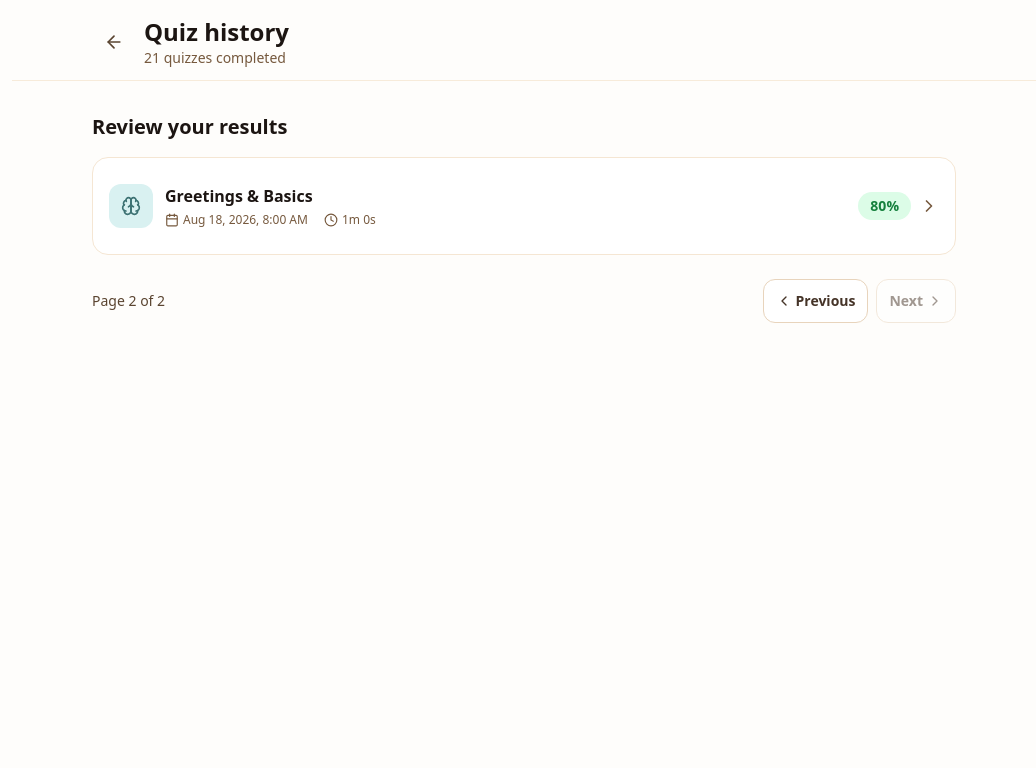
Test: progress pages › restores quiz-history pagination and carries the exact list URL into review
Click the button "Previous" at (815, 301), box [762, 279, 868, 323]
(page scrolled)
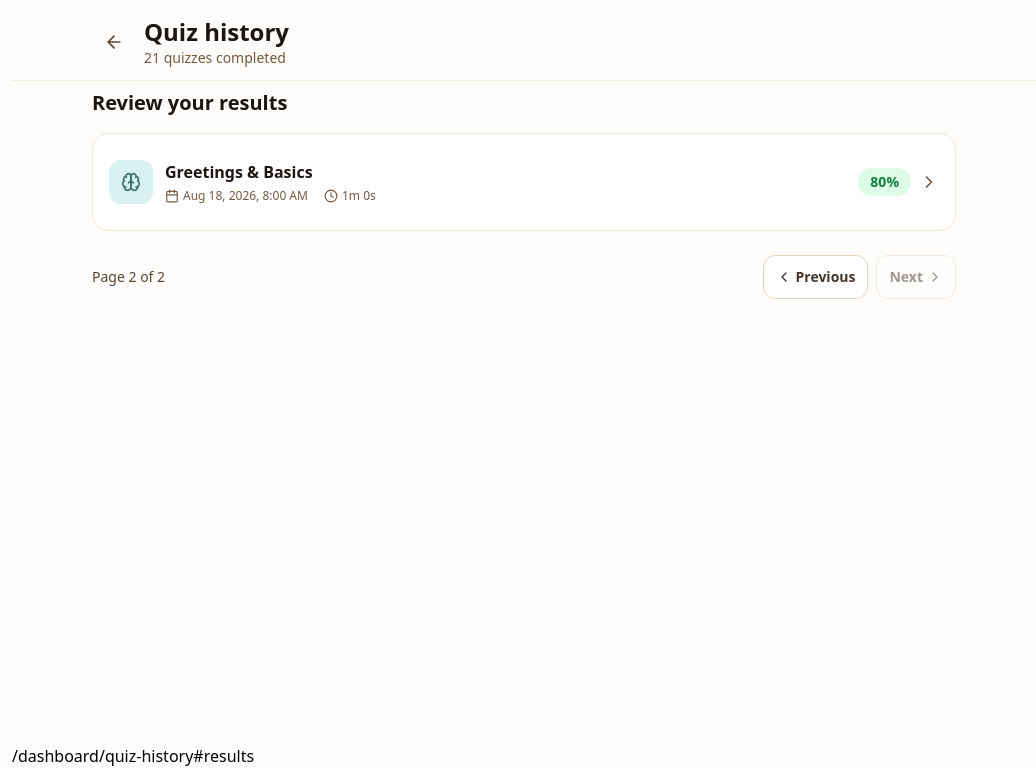
Now the text with test id "location" reads "/dashboard/quiz-history#results", box [12, 745, 254, 767]
